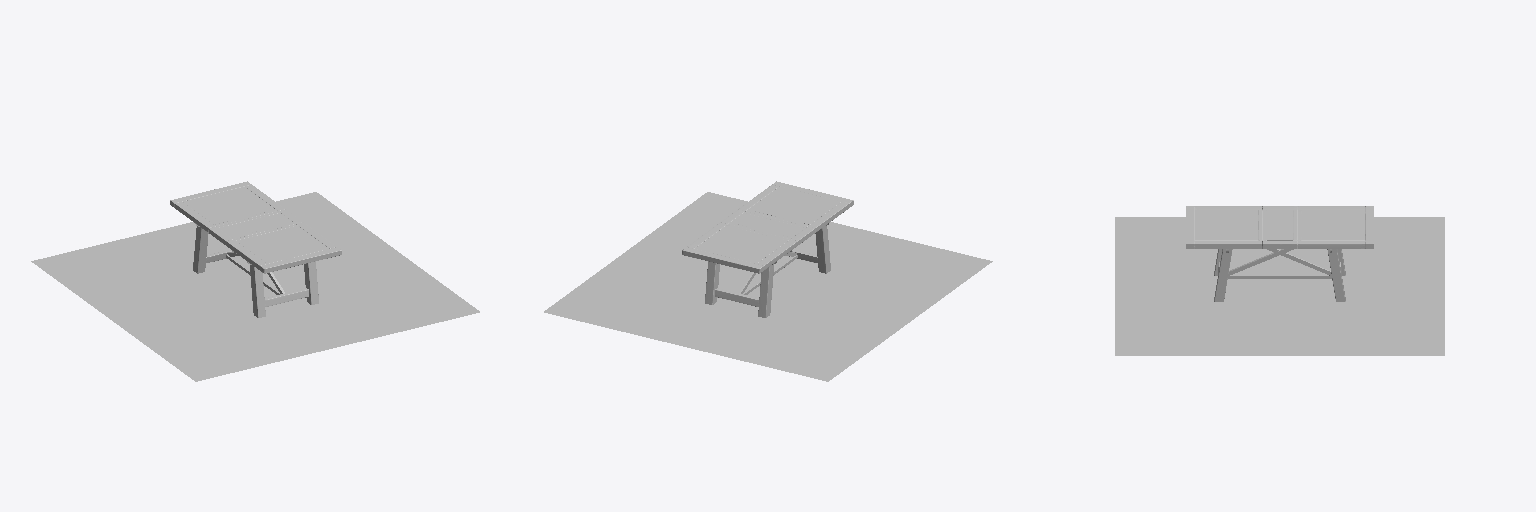
Rendered from LFMF2357.obj.
The picture shows the model from 3 angles: view 1: azimuth 30°, elevation 25°; view 2: azimuth 150°, elevation 25°; view 3: azimuth 270°, elevation 25°; orthographic projection.
Parts seen in each view (by area): view 1: shadow_plane_v6, not_clear_obj_0_v6, not_clear_obj_1_v6; view 2: shadow_plane_v6, not_clear_obj_0_v6, not_clear_obj_1_v6; view 3: shadow_plane_v6, not_clear_obj_0_v6, not_clear_obj_1_v6.
Boxes of the visible parts, x1,y1,x2,y2 form: shadow_plane_v6: [31, 192, 479, 381]; not_clear_obj_0_v6: [170, 181, 341, 317]; not_clear_obj_1_v6: [183, 187, 328, 263]; shadow_plane_v6: [544, 192, 992, 381]; not_clear_obj_0_v6: [682, 181, 853, 317]; not_clear_obj_1_v6: [695, 187, 840, 263]; shadow_plane_v6: [1115, 217, 1444, 355]; not_clear_obj_0_v6: [1186, 206, 1373, 301]; not_clear_obj_1_v6: [1195, 210, 1364, 240].
Bounding box in the file's own units: 369 × 76.16 × 369.